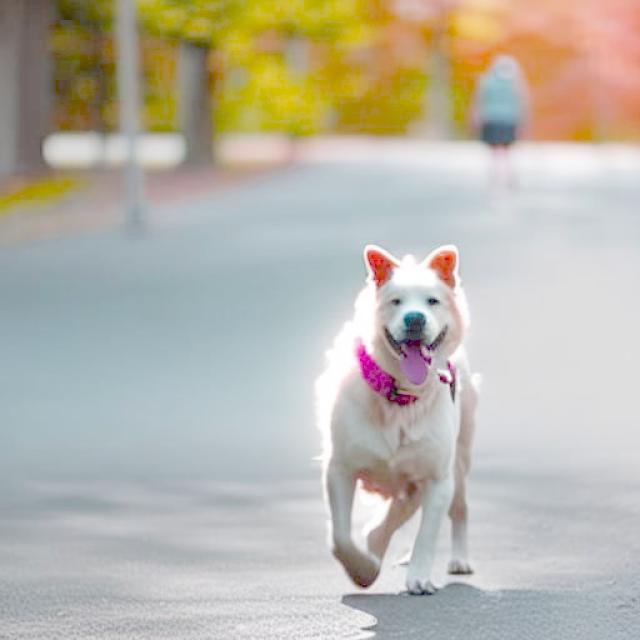Dog: (316, 244, 482, 596)
